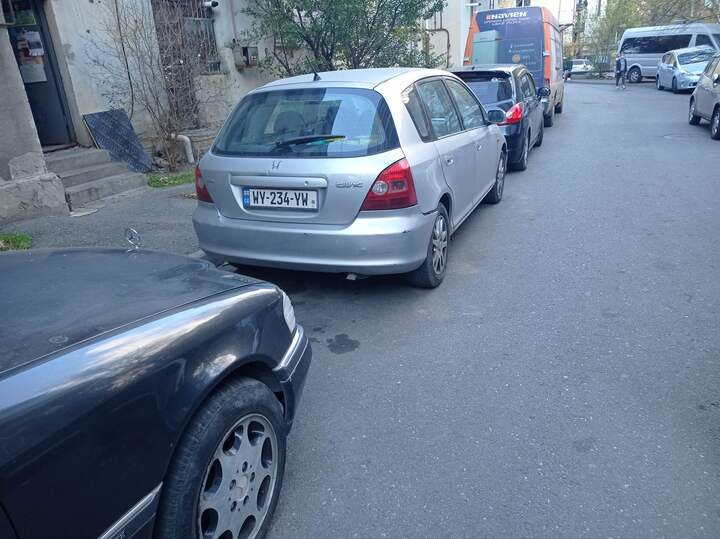plate: (240, 184, 318, 211)
